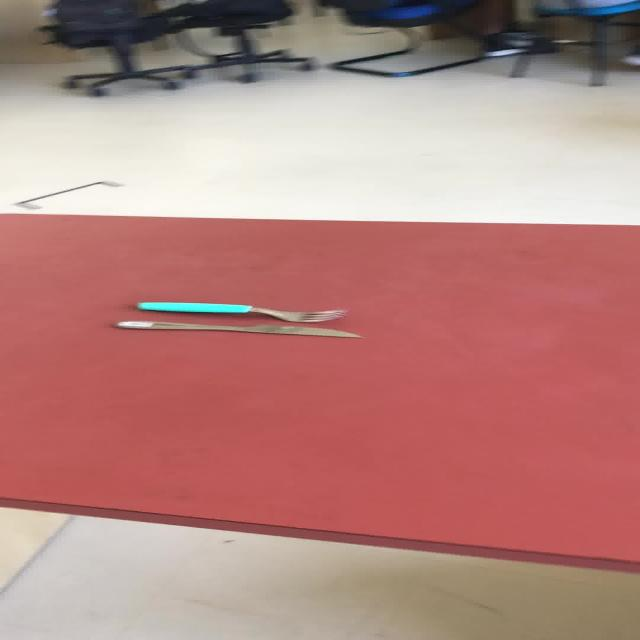fork: (134, 300, 348, 322)
knife fork: (112, 320, 362, 338)
